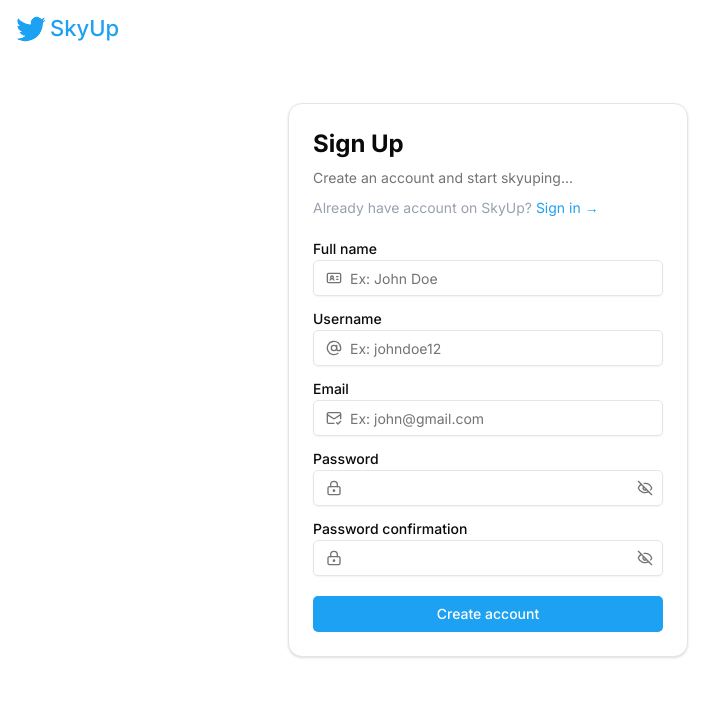
Test: SignUp page › shows submit error when API returns a string error
The image size is (705, 708).
Type "Alice Smith" into the field labelled "Full name".
click(502, 278); type("Alice Smith")  # box 342,260 -> 662,296
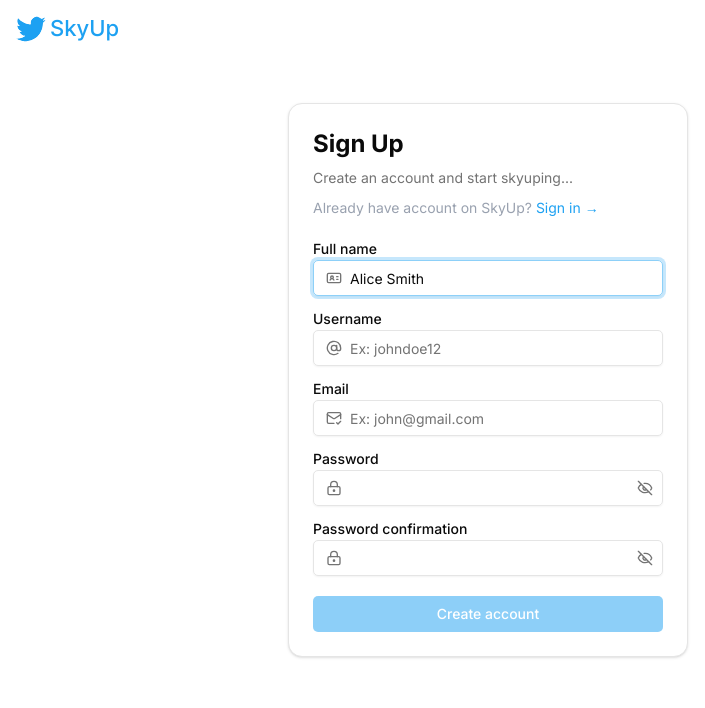
Type "alice123" into the field labelled "Username".
click(502, 348); type("alice123")  # box 342,330 -> 662,366
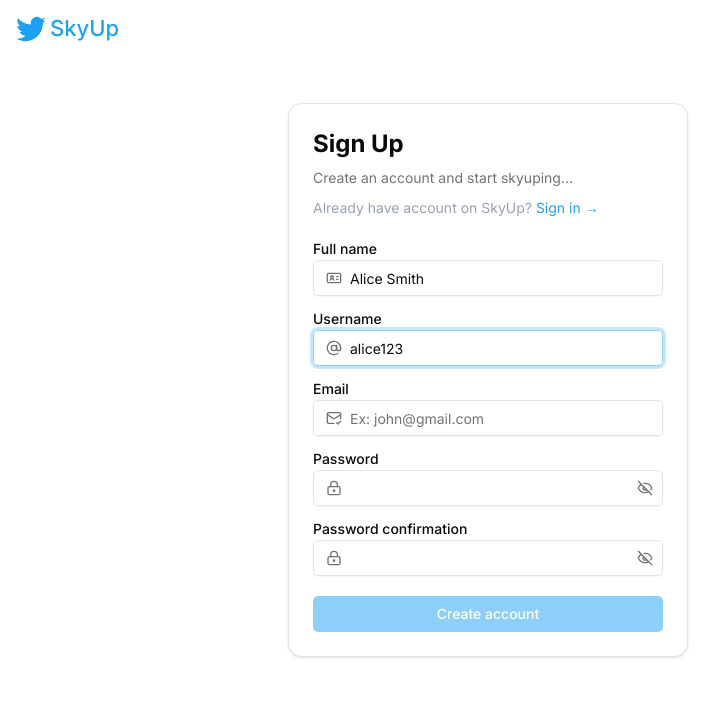
Type "alice@example.com" into the field labelled "Email".
click(502, 418); type("alice@example.com")  # box 342,400 -> 662,436
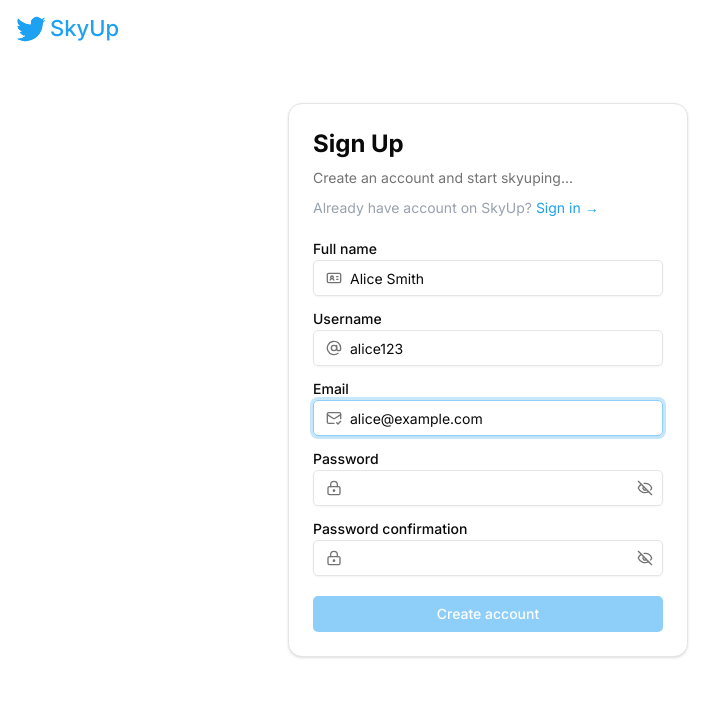
Type "Secret1234!" into the password field labelled "Password".
click(488, 488); type("Secret1234!")  # box 342,470 -> 633,506
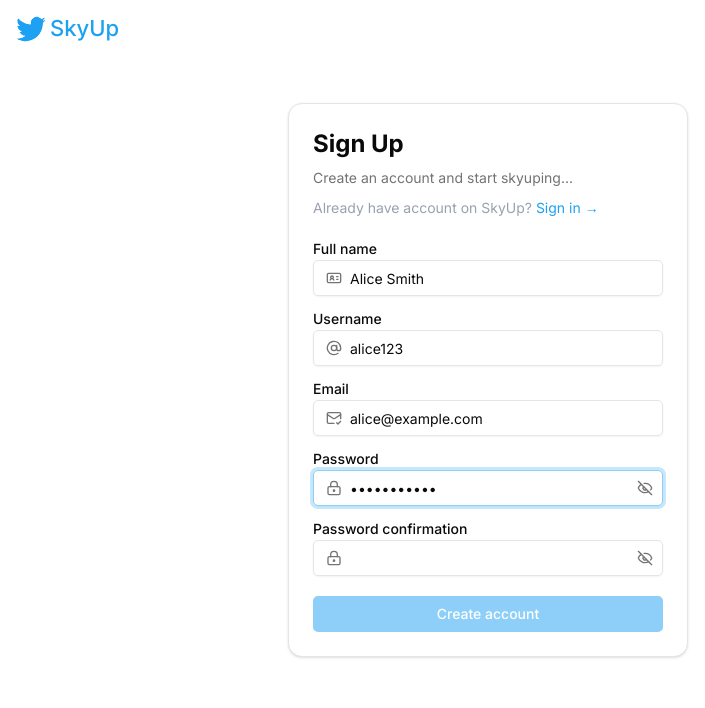
Type "Secret1234!" into the password field labelled "Password confirmation".
click(488, 558); type("Secret1234!")  # box 342,540 -> 633,576
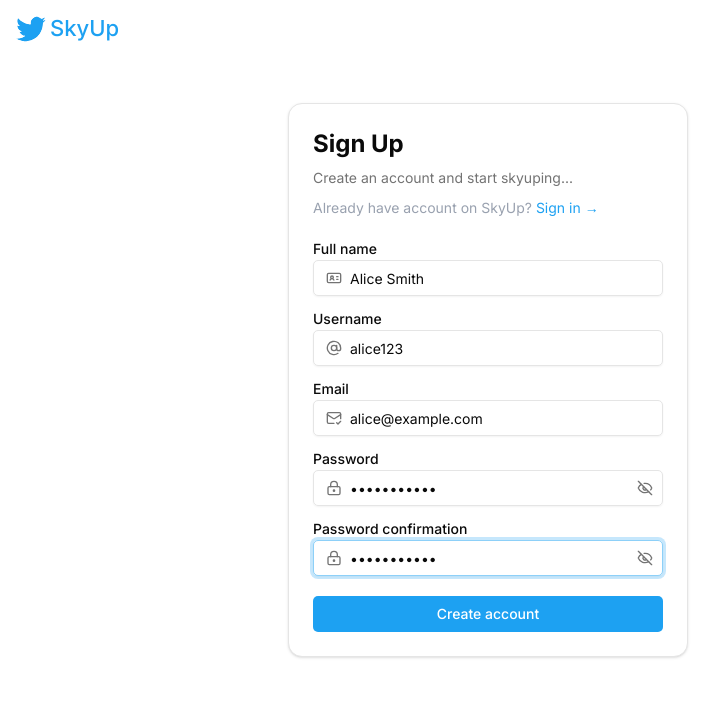
Click the button "Create account".
click(488, 614)  # box 313,596 -> 663,632
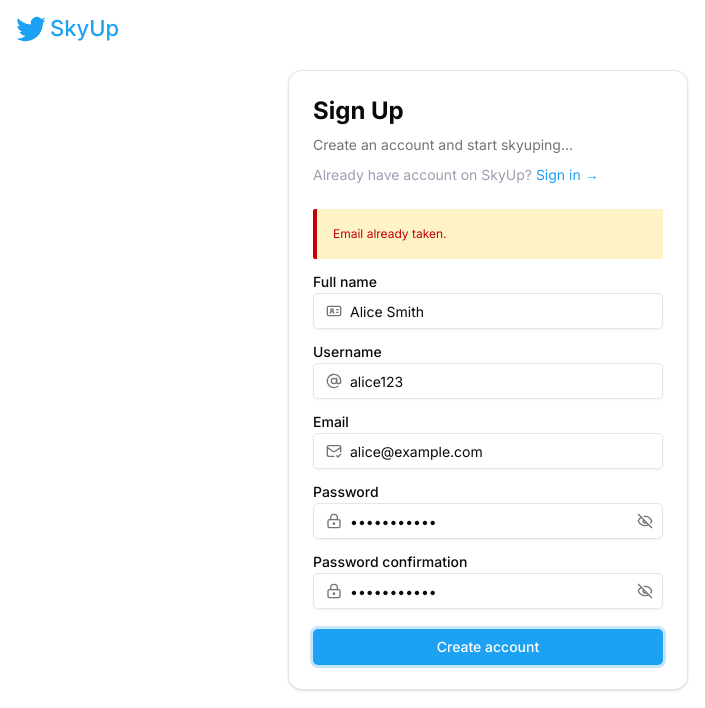
Check: the text "Email already taken." is shown, box 333,226 -> 447,241
